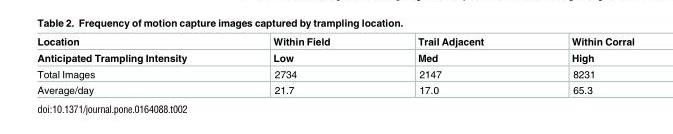table: (36, 36, 633, 95)
table column: (36, 36, 229, 95), (373, 36, 527, 95), (229, 36, 373, 95), (527, 36, 633, 95)
table column header: (36, 36, 633, 66)
table row: (36, 49, 633, 66), (36, 66, 633, 82), (36, 36, 633, 49), (36, 82, 633, 95)
table spanning cell: (36, 36, 229, 66), (373, 36, 527, 66), (229, 36, 373, 66), (527, 36, 633, 66)
